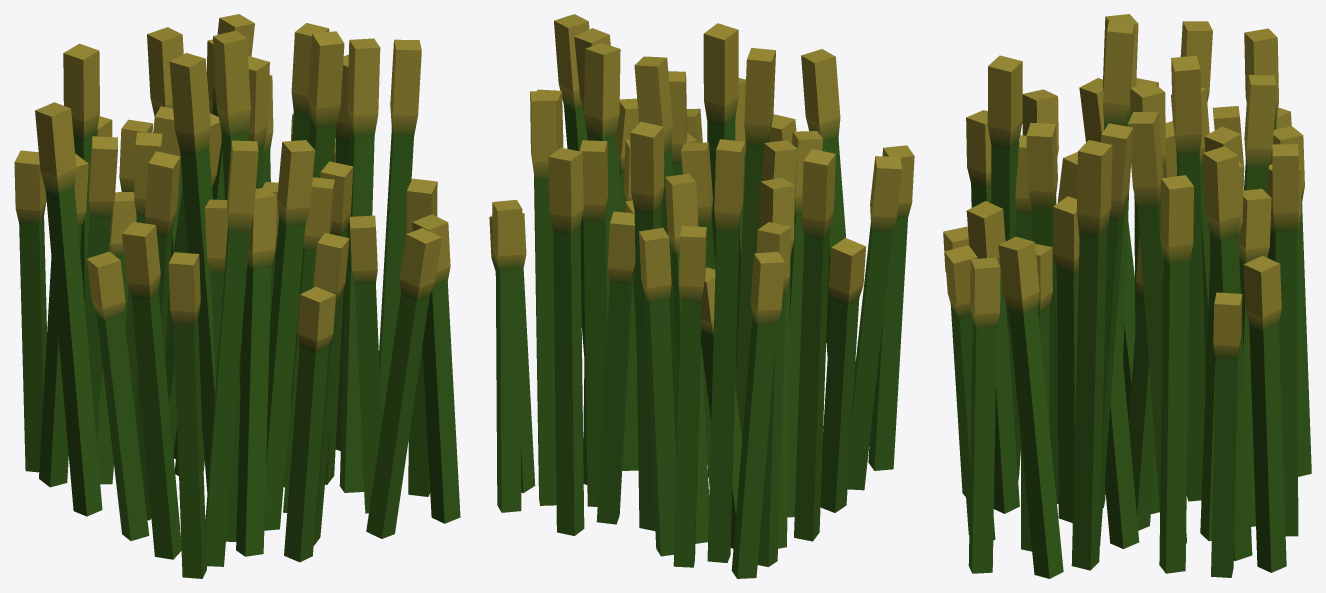
Rendered from Colza_Tile.glb.
3 renders of one model, left to right at view 1: azimuth 30°, elevation 25°; view 2: azimuth 150°, elevation 25°; view 3: azimuth 270°, elevation 25°, orthographic. The views are drawn at different scales.
Parts seen in each view (by area): view 1: Colza_BASE; view 2: Colza_BASE; view 3: Colza_BASE.
Part boxes in pixels (left/top/right/bottom): Colza_BASE: left=14, top=14, right=460, bottom=578; Colza_BASE: left=489, top=14, right=914, bottom=578; Colza_BASE: left=943, top=14, right=1311, bottom=578.
Size of the model in its own units: 1.19 by 1.61 by 1.14.
